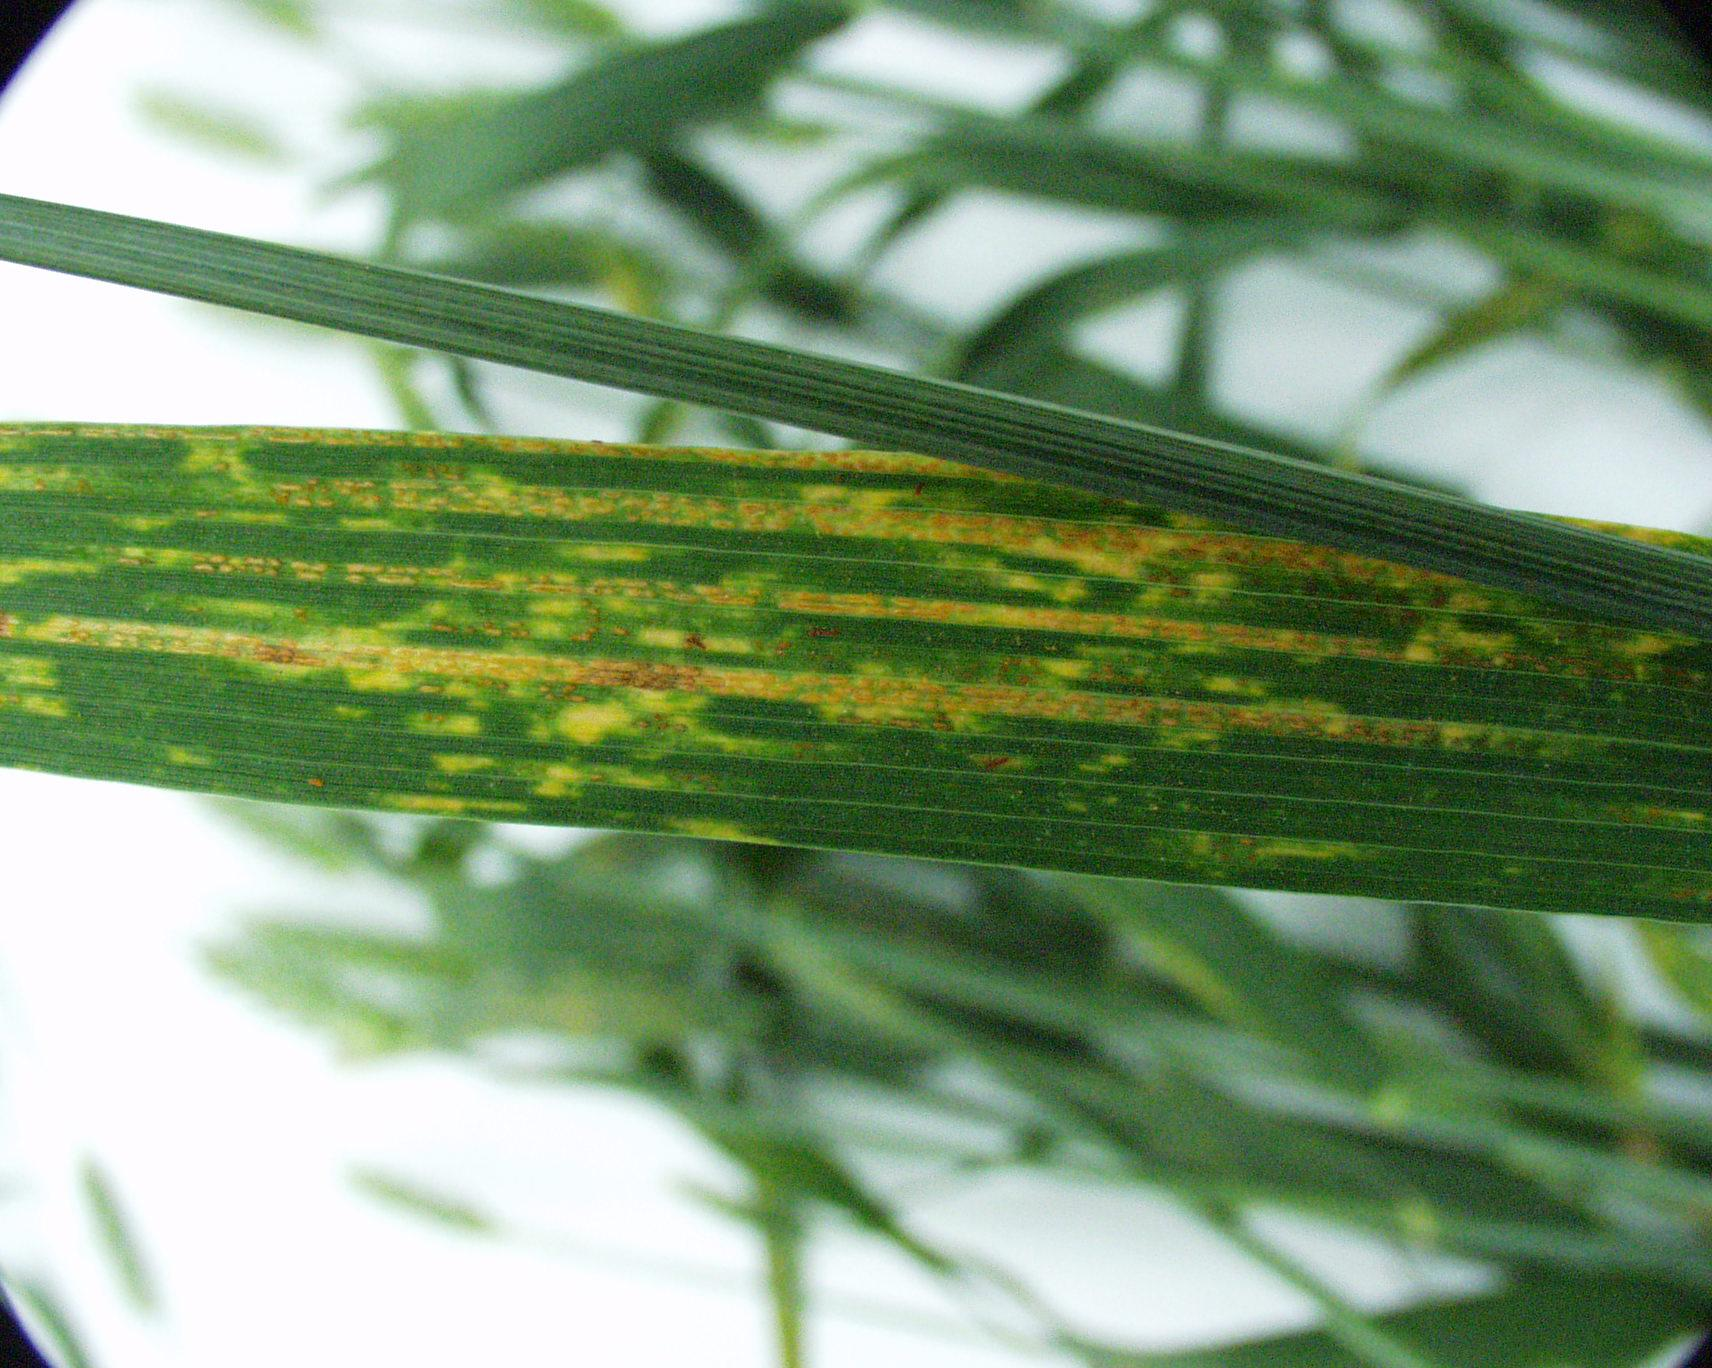Corn rust leaf: (1, 410, 1712, 953)
